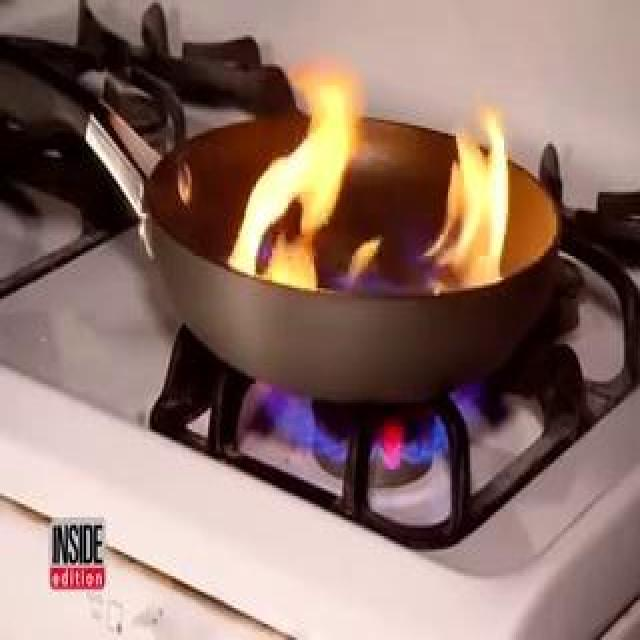Fire: (215, 38, 549, 294)
